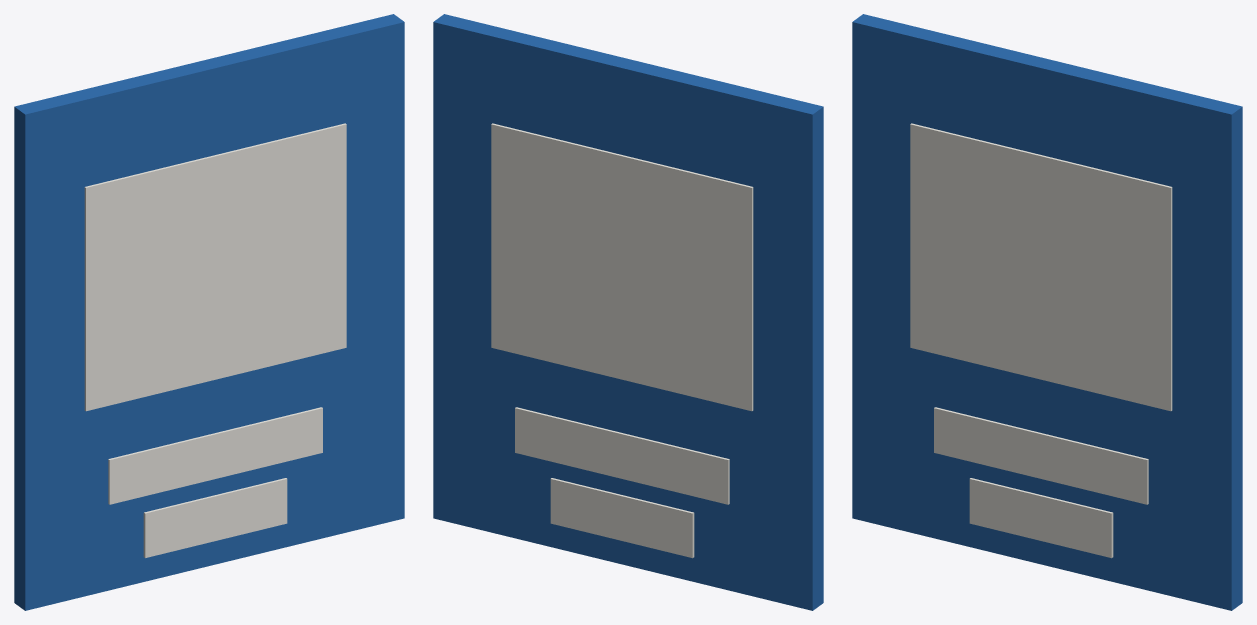
File: Poster_Blue.fbx
The picture shows the model from 3 angles, left to right: view 1: azimuth 30°, elevation 25°; view 2: azimuth 150°, elevation 25°; view 3: azimuth 330°, elevation 25°; orthographic projection.
Visible parts, largest first — view 1: Poster_Blue_Mesh; view 2: Poster_Blue_Mesh; view 3: Poster_Blue_Mesh.
Boxes of the visible parts, x1,y1,x2,y2 form: Poster_Blue_Mesh: (14, 14, 404, 610); Poster_Blue_Mesh: (433, 14, 823, 610); Poster_Blue_Mesh: (852, 14, 1242, 610).
Size of the model in its own units: 1.6 by 2 by 0.1.
1 material, 1 textured.
